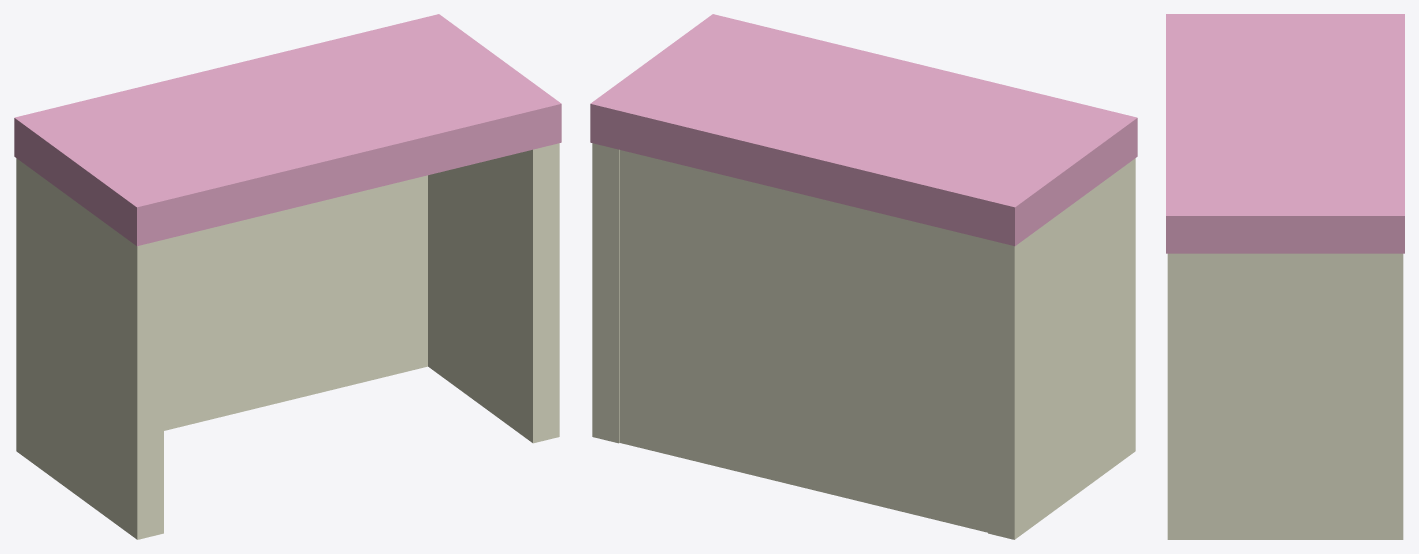
Rendered from desk3_pink.glb.
The picture shows the model from 3 angles, left to right: view 1: azimuth 30°, elevation 25°; view 2: azimuth 150°, elevation 25°; view 3: azimuth 270°, elevation 25°; orthographic projection. The views are drawn at different scales.
Parts seen in each view (by area): view 1: Box002; view 2: Box002; view 3: Box002.
Boxes of the visible parts, x1,y1,x2,y2 form: Box002: [14, 14, 561, 539]; Box002: [590, 14, 1137, 539]; Box002: [1166, 14, 1404, 539].
Size of the model in its own units: 0.16 by 0.12 by 0.08.
Materials: 1 (1 with a texture image).
